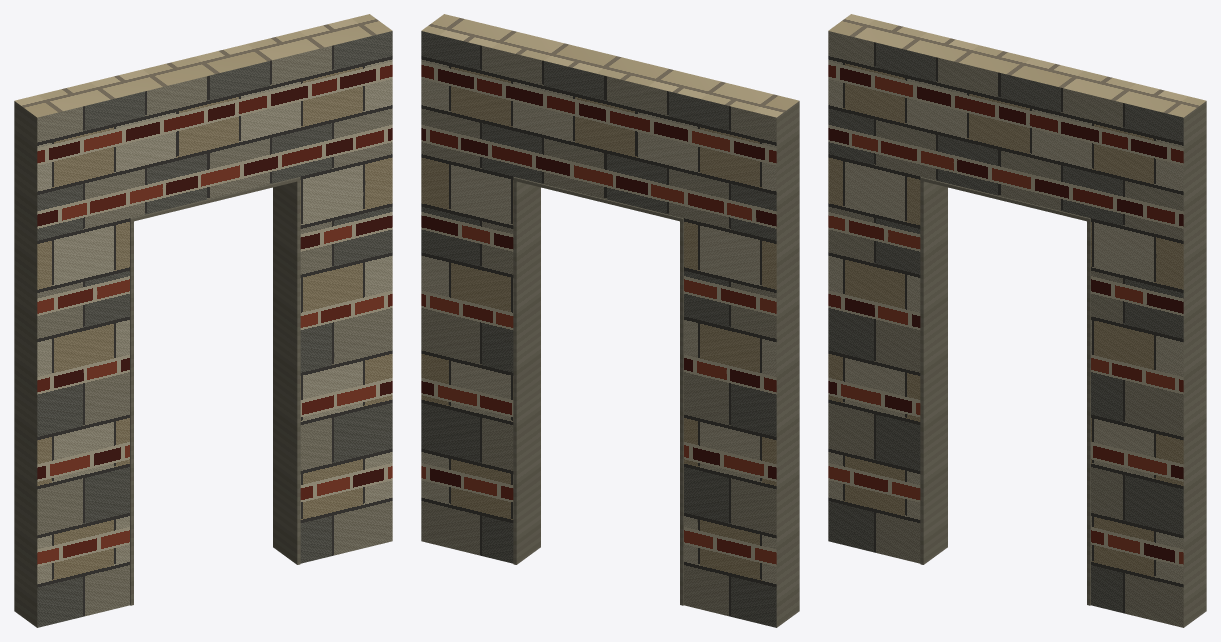
The model's file is wall door hole 2x v3 byzswap texture-match.glb.
The picture shows the model from 3 angles, left to right: view 1: azimuth 30°, elevation 25°; view 2: azimuth 150°, elevation 25°; view 3: azimuth 330°, elevation 25°; orthographic projection.
Parts seen in each view (by area): view 1: doorhole_v3_byzswap_mesh, doorhole_v3_byzswap_reveal_mesh; view 2: doorhole_v3_byzswap_mesh, doorhole_v3_byzswap_reveal_mesh; view 3: doorhole_v3_byzswap_mesh, doorhole_v3_byzswap_reveal_mesh.
Boxes of the visible parts, x1=… form: doorhole_v3_byzswap_mesh: x1=14, y1=14, x2=392, y2=627; doorhole_v3_byzswap_reveal_mesh: x1=130, y1=177, x2=300, y2=605; doorhole_v3_byzswap_mesh: x1=421, y1=14, x2=799, y2=627; doorhole_v3_byzswap_reveal_mesh: x1=513, y1=177, x2=683, y2=605; doorhole_v3_byzswap_mesh: x1=828, y1=14, x2=1206, y2=627; doorhole_v3_byzswap_reveal_mesh: x1=920, y1=177, x2=1090, y2=605.
Size of the model in its own units: 2 by 2.74 by 0.237.
3 materials, 3 textured.
